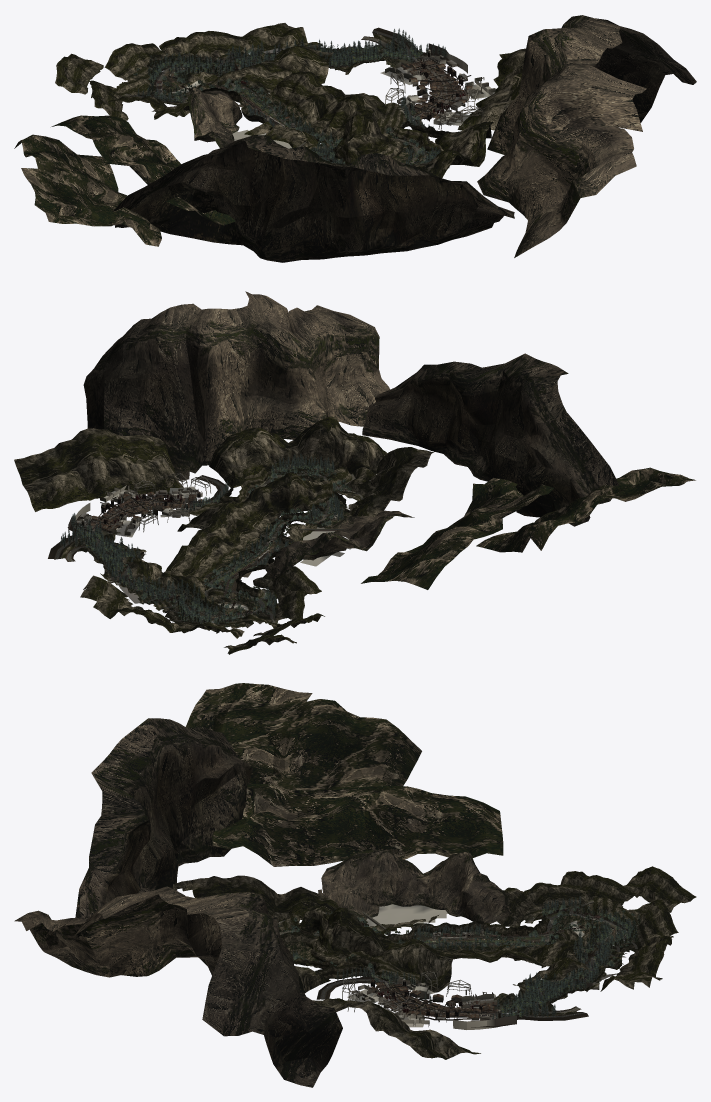
The model's file is lone-peak.glb.
3 views of the same model, one above another, from view 1: azimuth 30°, elevation 25°; view 2: azimuth 150°, elevation 25°; view 3: azimuth 270°, elevation 25° (orthographic). The views are drawn at different scales.
Parts seen in each view (by area): view 1: backdrop_grp_000_mdl_000_sub_000_material_115_0, backdrop_grp_002_mdl_000_sub_000_material_001_0, backdrop_grp_001_mdl_000_sub_000_material_000_0, backdrop_grp_005_mdl_000_sub_000_material_116_0, unit_000_inst_052_mdl_014_lod_000_material_135_0, unit_000_inst_034_mdl_005_lod_000_material_126_0, unit_000_inst_020_mdl_004_lod_000_material_125_0, unit_000_inst_002_mdl_002_lod_000_material_123_0, unit_018_inst_016_mdl_017_lod_000_material_137_0, unit_002_inst_051_mdl_015_lod_000_material_136_0, unit_006_sub_011_material_038_0, unit_001_sub_010_material_027_0 (+5 smaller); view 2: backdrop_grp_000_mdl_000_sub_000_material_115_0, backdrop_grp_002_mdl_000_sub_000_material_001_0, backdrop_grp_001_mdl_000_sub_000_material_000_0, backdrop_grp_005_mdl_000_sub_000_material_116_0, unit_000_inst_052_mdl_014_lod_000_material_135_0, unit_000_inst_034_mdl_005_lod_000_material_126_0, unit_000_inst_002_mdl_002_lod_000_material_123_0, unit_000_inst_020_mdl_004_lod_000_material_125_0, unit_018_inst_016_mdl_017_lod_000_material_137_0, unit_001_sub_010_material_027_0, unit_000_sub_023_material_023_0, unit_006_sub_011_material_038_0 (+1 smaller); view 3: backdrop_grp_000_mdl_000_sub_000_material_115_0, backdrop_grp_001_mdl_000_sub_000_material_000_0, backdrop_grp_002_mdl_000_sub_000_material_001_0, backdrop_grp_005_mdl_000_sub_000_material_116_0, unit_000_inst_052_mdl_014_lod_000_material_135_0, unit_000_inst_034_mdl_005_lod_000_material_126_0, unit_000_inst_020_mdl_004_lod_000_material_125_0, unit_000_inst_002_mdl_002_lod_000_material_123_0, unit_001_sub_010_material_027_0, unit_006_sub_011_material_038_0, unit_002_inst_051_mdl_015_lod_000_material_136_0, unit_018_inst_016_mdl_017_lod_000_material_137_0 (+1 smaller).
Part boxes in pixels (left/top/right/bottom): backdrop_grp_000_mdl_000_sub_000_material_115_0: left=113, top=15, right=696, bottom=262; backdrop_grp_002_mdl_000_sub_000_material_001_0: left=55, top=23, right=525, bottom=178; backdrop_grp_001_mdl_000_sub_000_material_000_0: left=14, top=49, right=410, bottom=246; backdrop_grp_005_mdl_000_sub_000_material_116_0: left=156, top=43, right=495, bottom=163; unit_000_inst_052_mdl_014_lod_000_material_135_0: left=137, top=28, right=466, bottom=164; unit_000_inst_034_mdl_005_lod_000_material_126_0: left=152, top=39, right=437, bottom=164; unit_000_inst_020_mdl_004_lod_000_material_125_0: left=151, top=45, right=437, bottom=163; unit_000_inst_002_mdl_002_lod_000_material_123_0: left=133, top=52, right=431, bottom=165; unit_018_inst_016_mdl_017_lod_000_material_137_0: left=150, top=48, right=431, bottom=163; unit_002_inst_051_mdl_015_lod_000_material_136_0: left=148, top=44, right=339, bottom=140; unit_006_sub_011_material_038_0: left=270, top=59, right=472, bottom=125; unit_001_sub_010_material_027_0: left=140, top=27, right=459, bottom=156; backdrop_grp_000_mdl_000_sub_000_material_115_0: left=83, top=291, right=618, bottom=580; backdrop_grp_002_mdl_000_sub_000_material_001_0: left=14, top=416, right=442, bottom=654; backdrop_grp_001_mdl_000_sub_000_material_000_0: left=103, top=467, right=695, bottom=616; backdrop_grp_005_mdl_000_sub_000_material_116_0: left=68, top=473, right=351, bottom=622; unit_000_inst_052_mdl_014_lod_000_material_135_0: left=60, top=454, right=343, bottom=616; unit_000_inst_034_mdl_005_lod_000_material_126_0: left=76, top=460, right=333, bottom=621; unit_000_inst_002_mdl_002_lod_000_material_123_0: left=94, top=465, right=351, bottom=627; unit_000_inst_020_mdl_004_lod_000_material_125_0: left=76, top=465, right=333, bottom=623; unit_018_inst_016_mdl_017_lod_000_material_137_0: left=141, top=464, right=342, bottom=622; unit_001_sub_010_material_027_0: left=48, top=475, right=332, bottom=623; unit_000_sub_023_material_023_0: left=56, top=473, right=363, bottom=629; unit_006_sub_011_material_038_0: left=92, top=492, right=273, bottom=561; backdrop_grp_000_mdl_000_sub_000_material_115_0: left=14, top=718, right=512, bottom=1087; backdrop_grp_001_mdl_000_sub_000_material_000_0: left=185, top=683, right=616, bottom=1007; backdrop_grp_002_mdl_000_sub_000_material_001_0: left=173, top=866, right=696, bottom=1059; backdrop_grp_005_mdl_000_sub_000_material_116_0: left=342, top=904, right=625, bottom=1029; unit_000_inst_052_mdl_014_lod_000_material_135_0: left=290, top=896, right=611, bottom=1019; unit_000_inst_034_mdl_005_lod_000_material_126_0: left=371, top=903, right=632, bottom=1014; unit_000_inst_020_mdl_004_lod_000_material_125_0: left=371, top=907, right=631, bottom=1017; unit_000_inst_002_mdl_002_lod_000_material_123_0: left=277, top=906, right=637, bottom=1011; unit_001_sub_010_material_027_0: left=316, top=906, right=634, bottom=1027; unit_006_sub_011_material_038_0: left=369, top=933, right=497, bottom=1020; unit_002_inst_051_mdl_015_lod_000_material_136_0: left=401, top=901, right=640, bottom=993; unit_018_inst_016_mdl_017_lod_000_material_137_0: left=291, top=903, right=631, bottom=982.
Size of the model in its own units: 3152 by 734 by 2863.
Materials: 100 (99 with a texture image).
